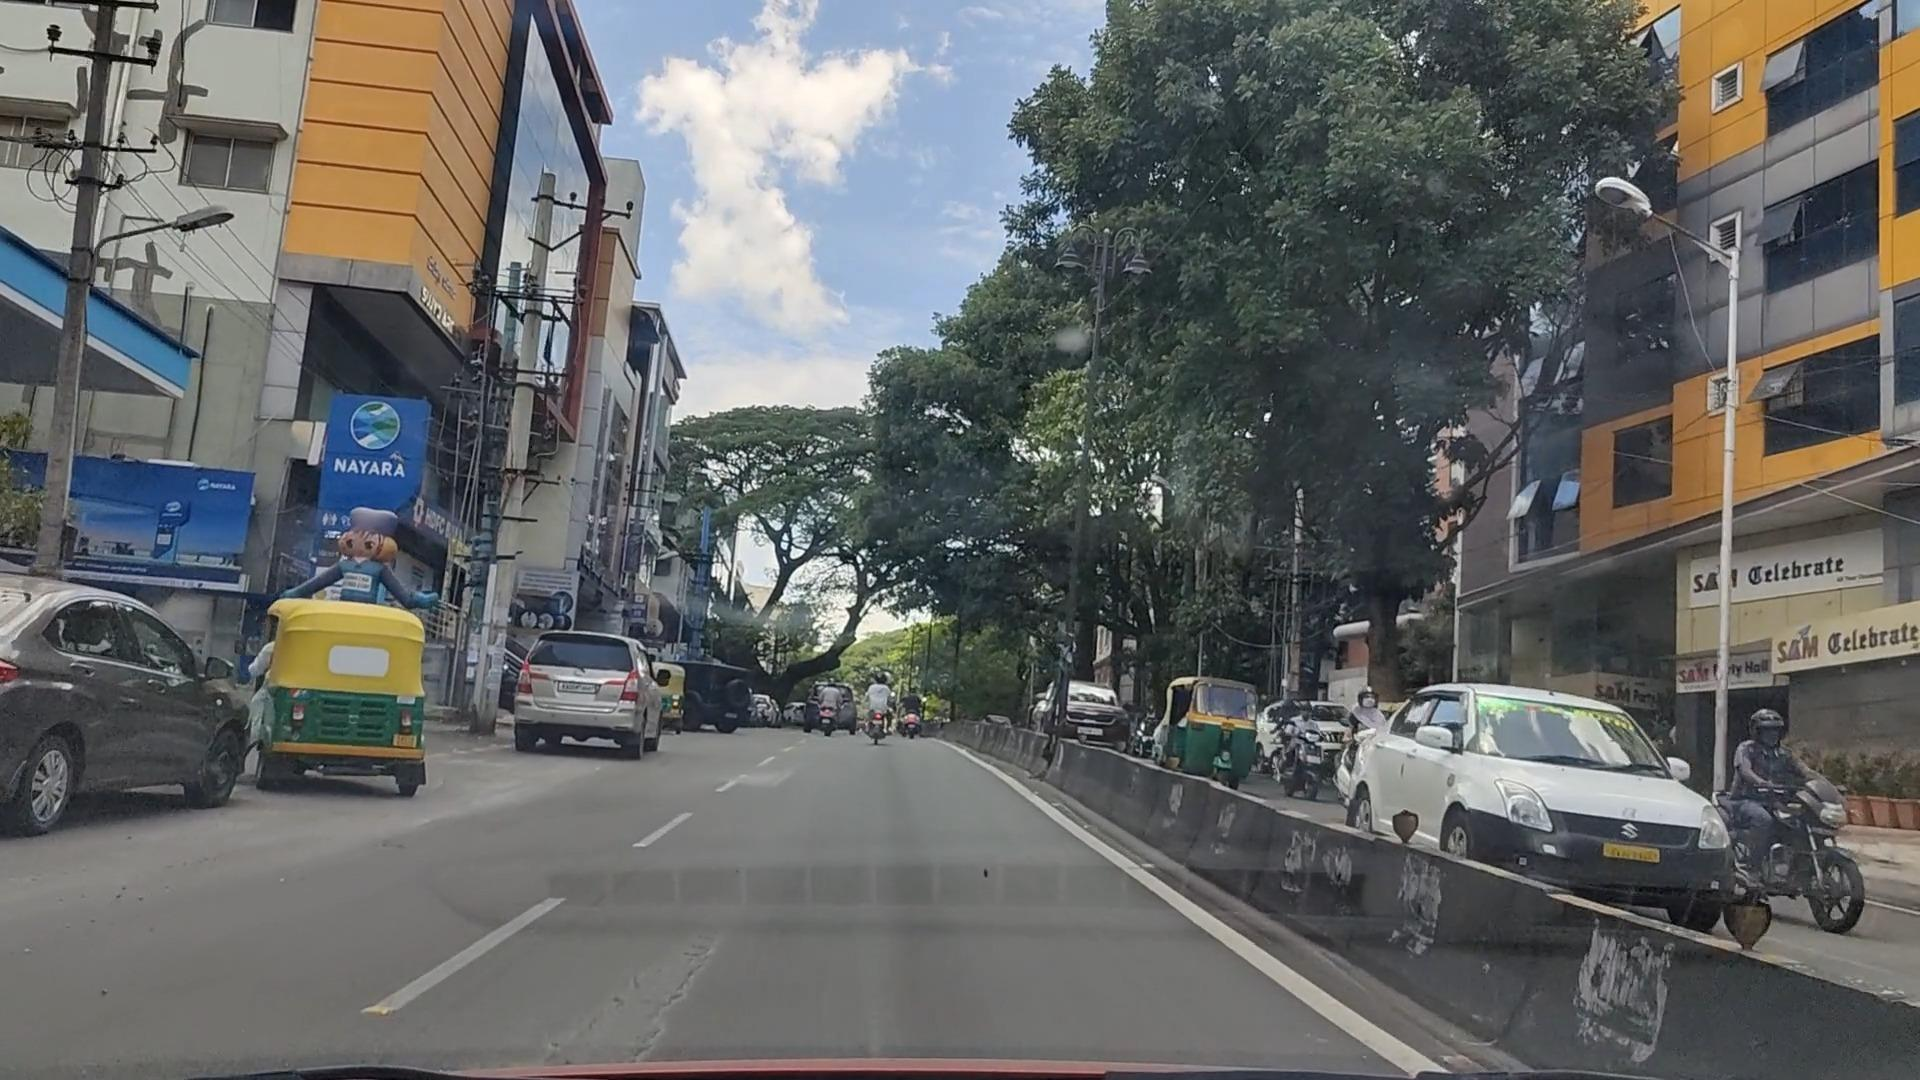LMV: (268, 588, 431, 778)
RoadDamages: (546, 890, 779, 1058)
